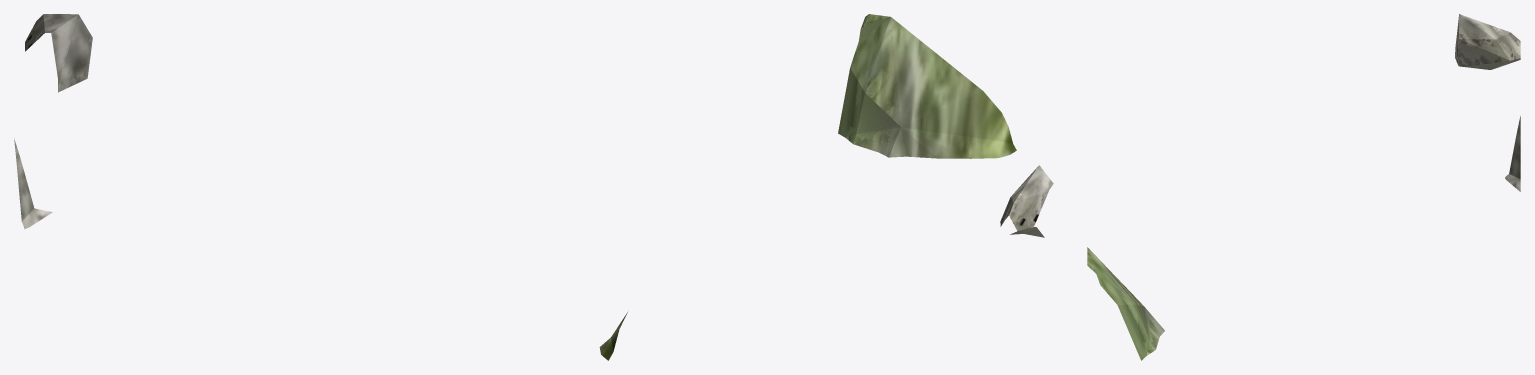
3 views of the same model, side by side, from view 1: azimuth 30°, elevation 25°; view 2: azimuth 150°, elevation 25°; view 3: azimuth 270°, elevation 25° (orthographic). The views are drawn at different scales.
Size of the model in its own units: 2.95 by 1.3 by 2.95.
Materials: 1 (1 with a texture image).
